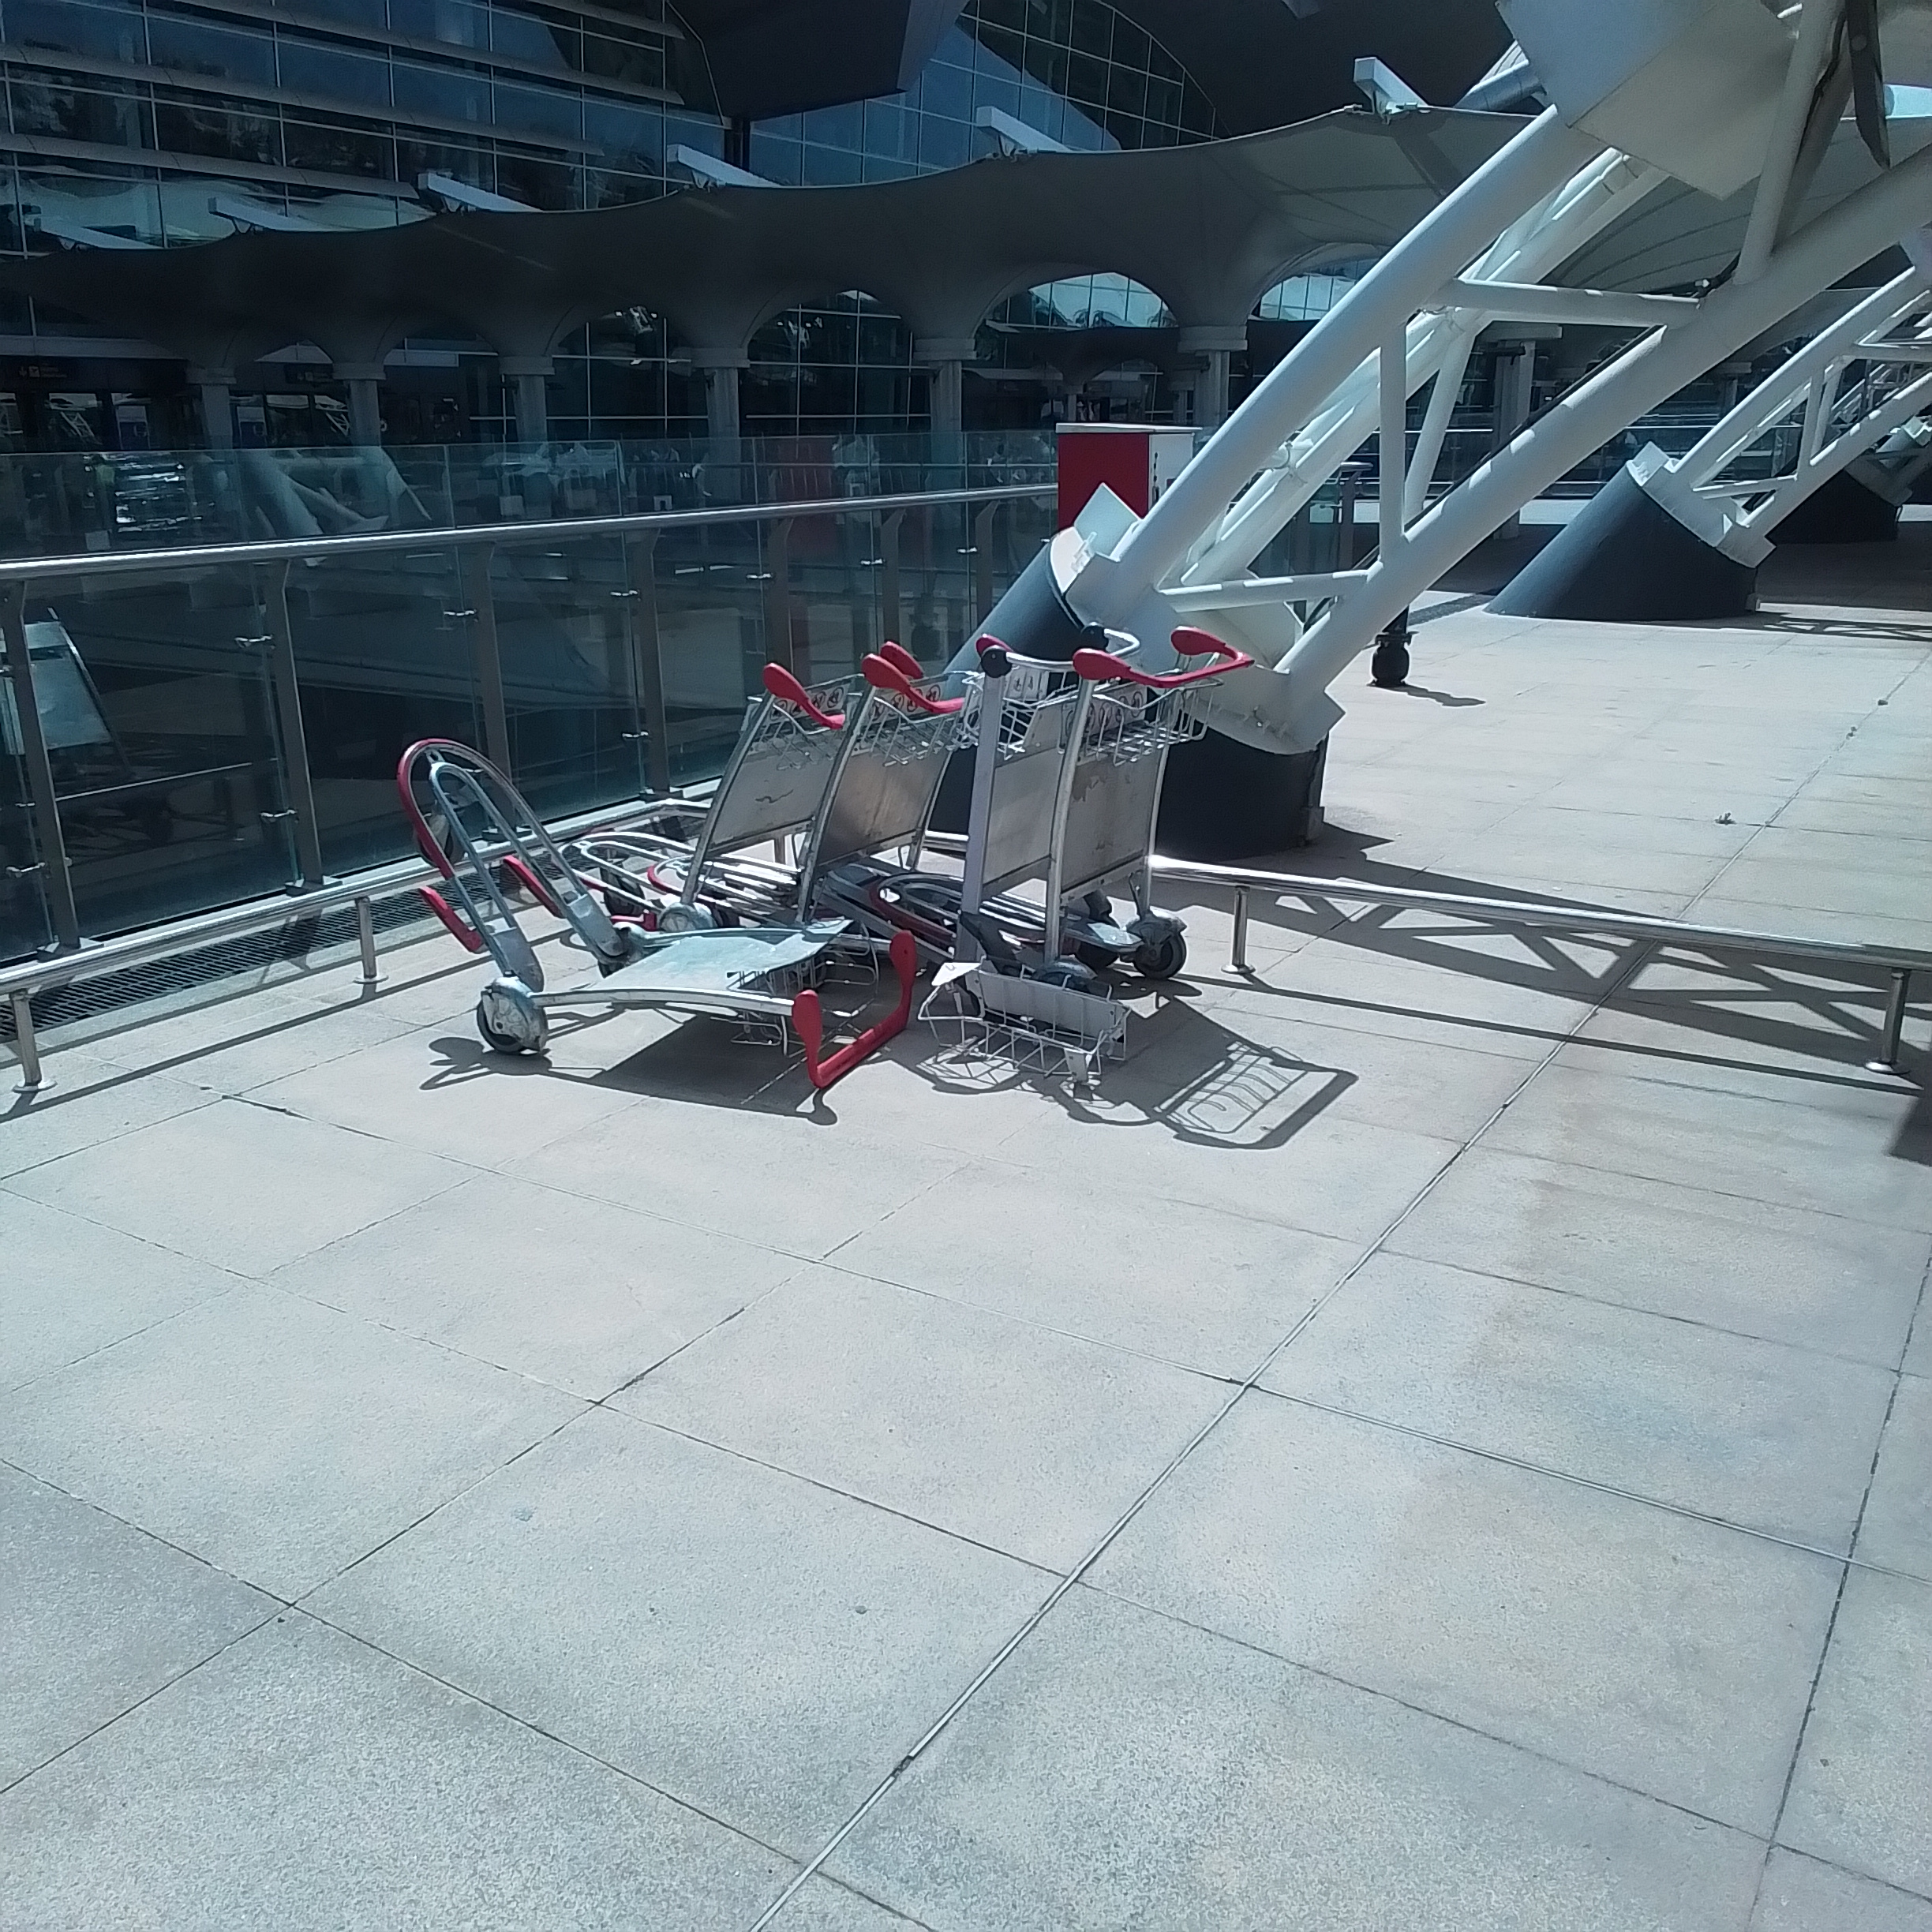airport-trolley: (384, 734, 938, 1102), (947, 623, 1145, 1123), (800, 614, 1003, 1099), (602, 656, 851, 1042), (1037, 640, 1240, 1090)
